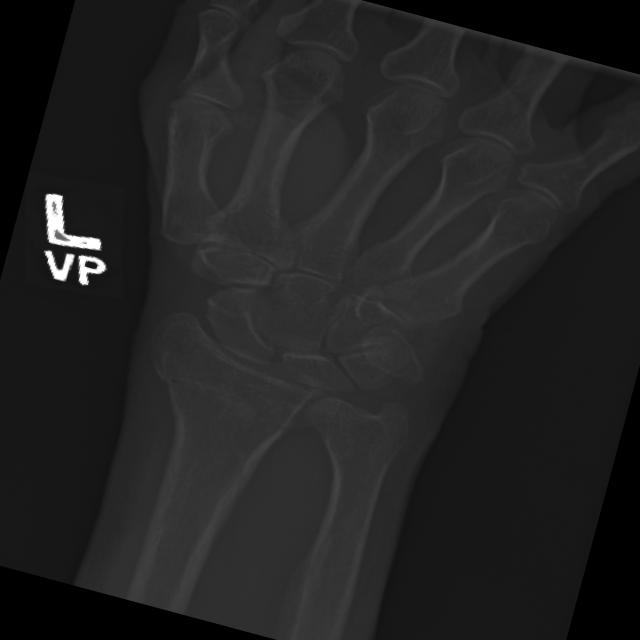fingers positive: (132, 328, 415, 474)
